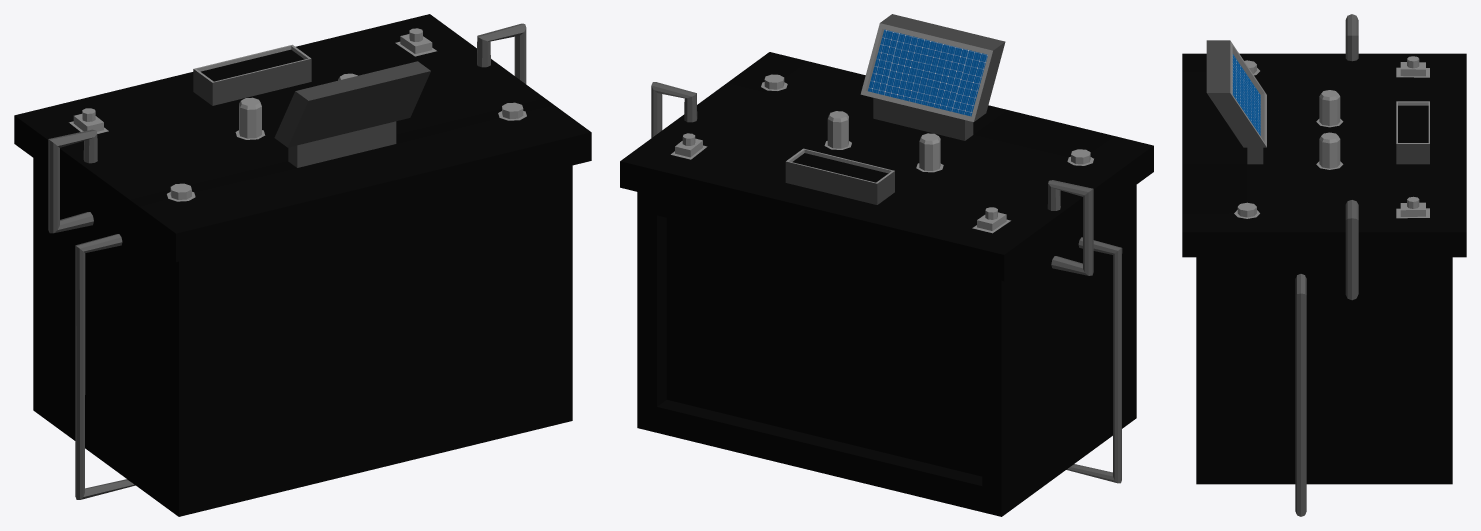
Rendered from BatteryBurned.fbx.
3 renders of one model, left to right at view 1: azimuth 30°, elevation 25°; view 2: azimuth 150°, elevation 25°; view 3: azimuth 270°, elevation 25°, orthographic. The views are drawn at different scales.
Parts seen in each view (by area): view 1: BatteryBurned; view 2: BatteryBurned; view 3: BatteryBurned.
Boxes of the visible parts, bbox=[...] form: BatteryBurned: bbox=[14, 14, 591, 516]; BatteryBurned: bbox=[620, 14, 1153, 516]; BatteryBurned: bbox=[1182, 14, 1466, 516].
Size of the model in its own units: 54.17 by 31.61 by 42.59.
5 materials, 1 textured.
